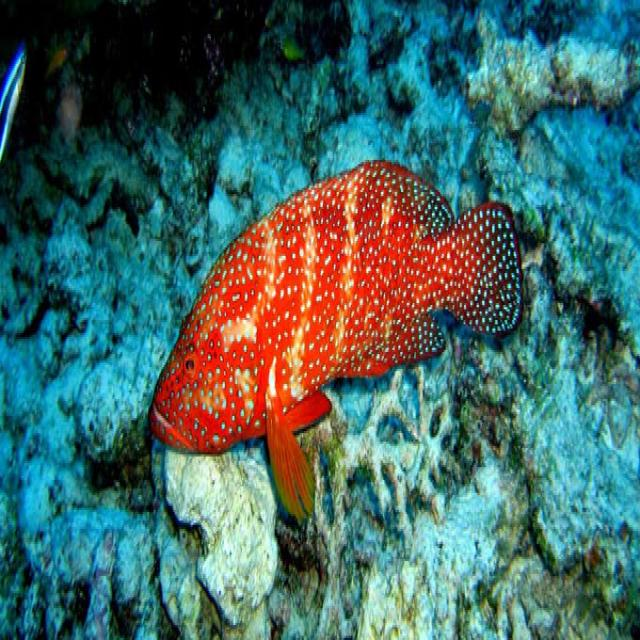Leopard coral grouper: (146, 138, 531, 532)
